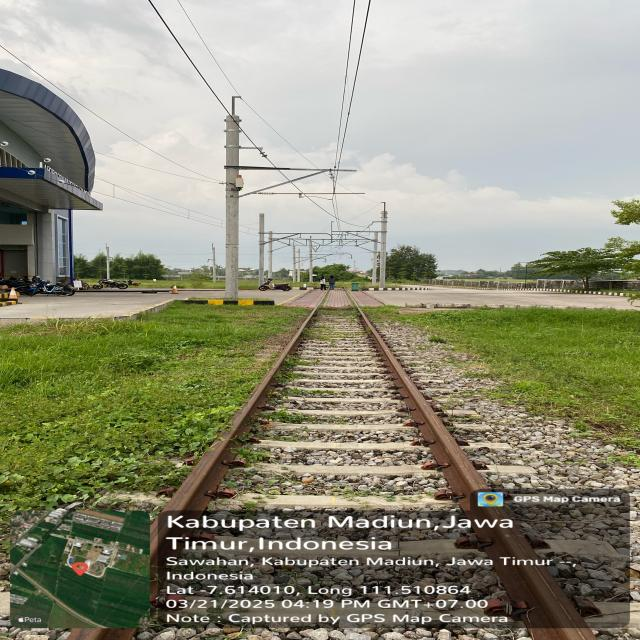rail-detection: (361, 312, 596, 640), (150, 311, 314, 595)
